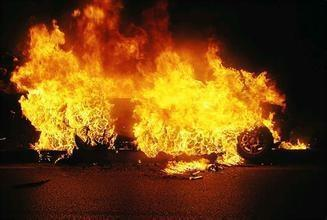fire: (2, 1, 315, 175)
